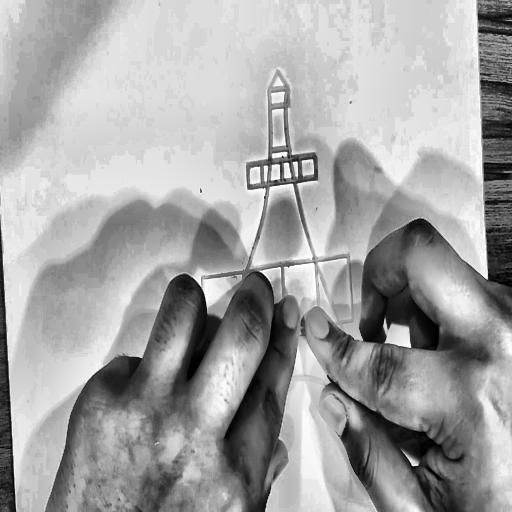eiffel-tower: (109, 8, 468, 506)
